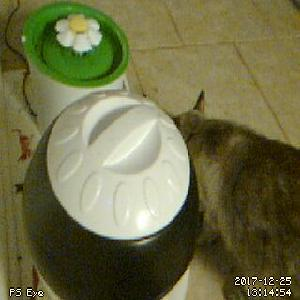cat: (163, 86, 300, 300)
fountain: (21, 3, 130, 89)
